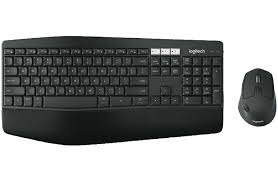mouse: (232, 66, 278, 135)
